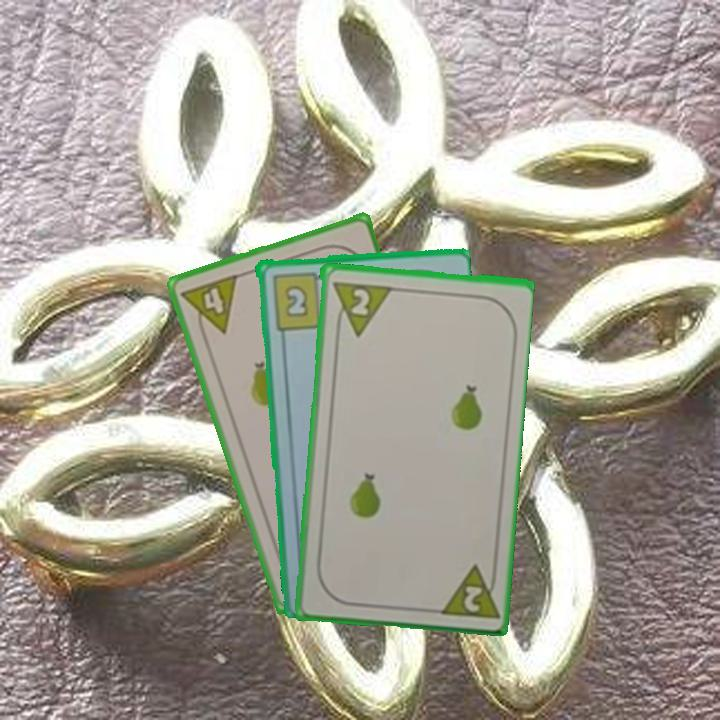2b: (268, 268, 329, 332)
2p: (434, 560, 500, 622), (328, 277, 392, 339)
4p: (177, 270, 241, 343)
